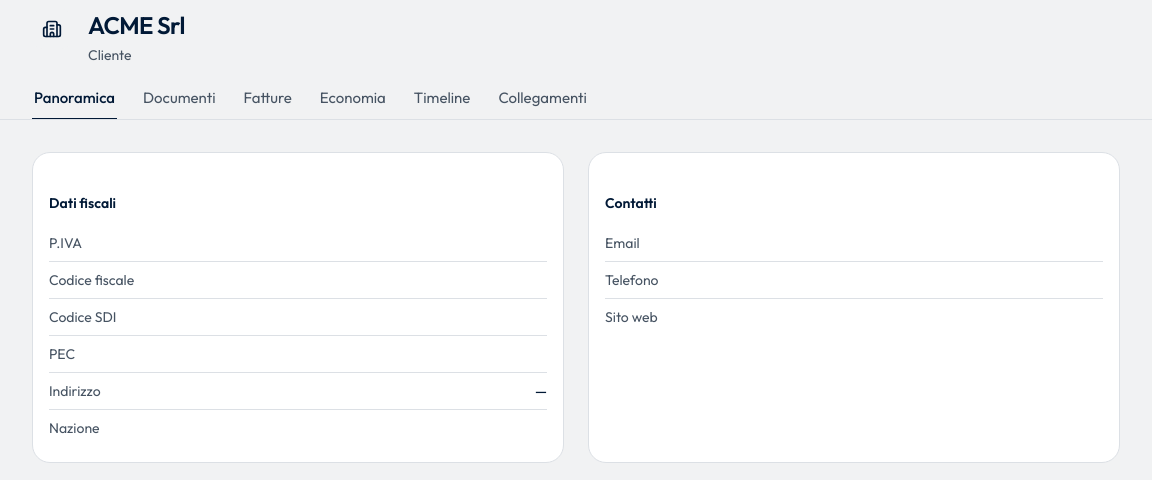
Test case: CustomerDetail › the Fatture tab › offers none to a reader
Click the tab "Fatture". click: (268, 103)
box: [242,87,294,120]
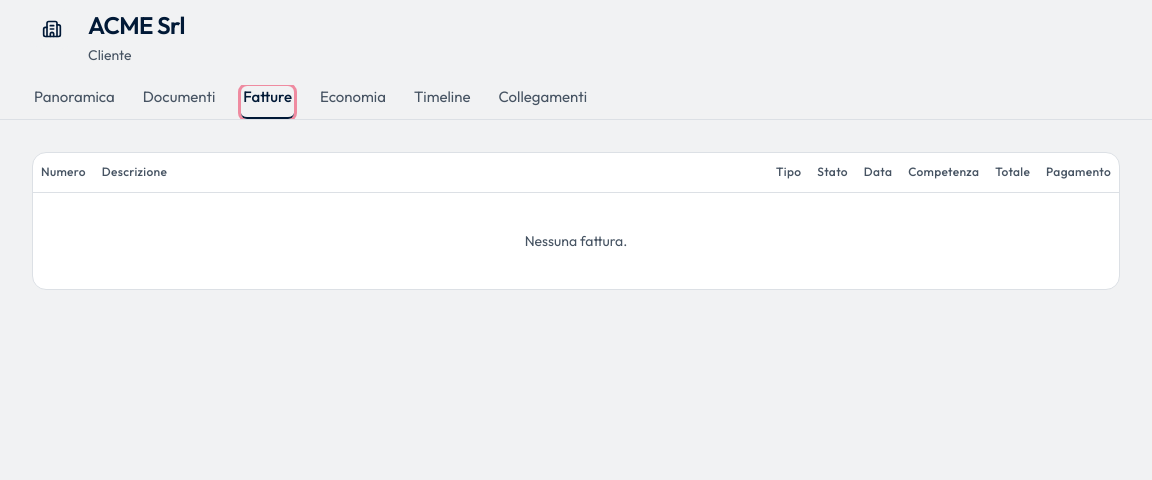
Check: the text "Nessuna fattura." is shown, box [33,192,1119,288]
